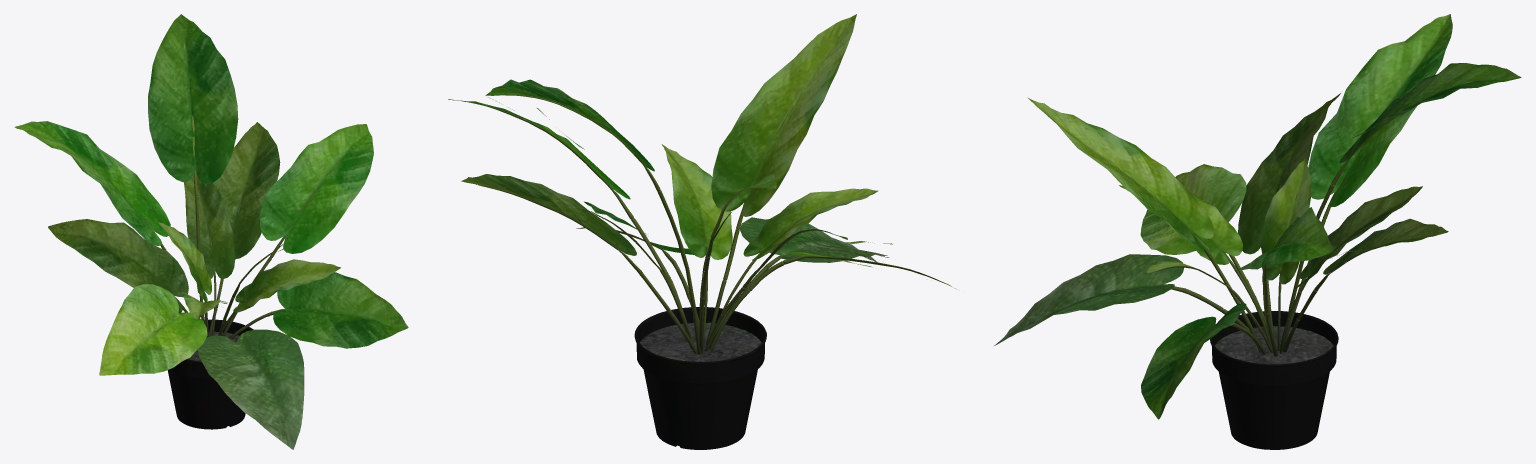
The model's file is 50600863-mini.glb.
3 views of the same model, side by side, from view 1: azimuth 30°, elevation 25°; view 2: azimuth 150°, elevation 25°; view 3: azimuth 270°, elevation 25° (orthographic). The views are drawn at different scales.
Visible parts, largest first — view 1: 40600887_01; view 2: 40600887_01; view 3: 40600887_01.
Part boxes in pixels (bbox=[...]): 40600887_01: bbox=[14, 14, 408, 449]; 40600887_01: bbox=[448, 14, 956, 449]; 40600887_01: bbox=[994, 14, 1521, 449].
Size of the model in its own units: 0.4672 by 0.4163 by 0.5026.
Materials: 1 (1 with a texture image).
